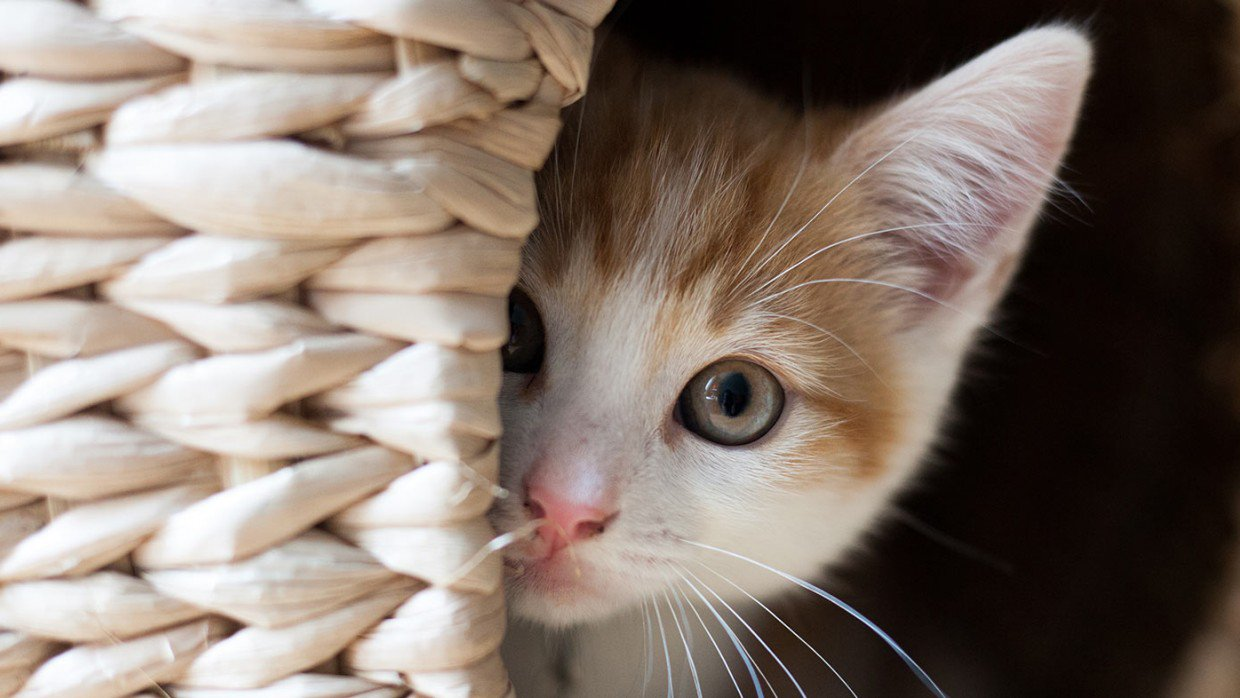dog: (485, 26, 1098, 698)
